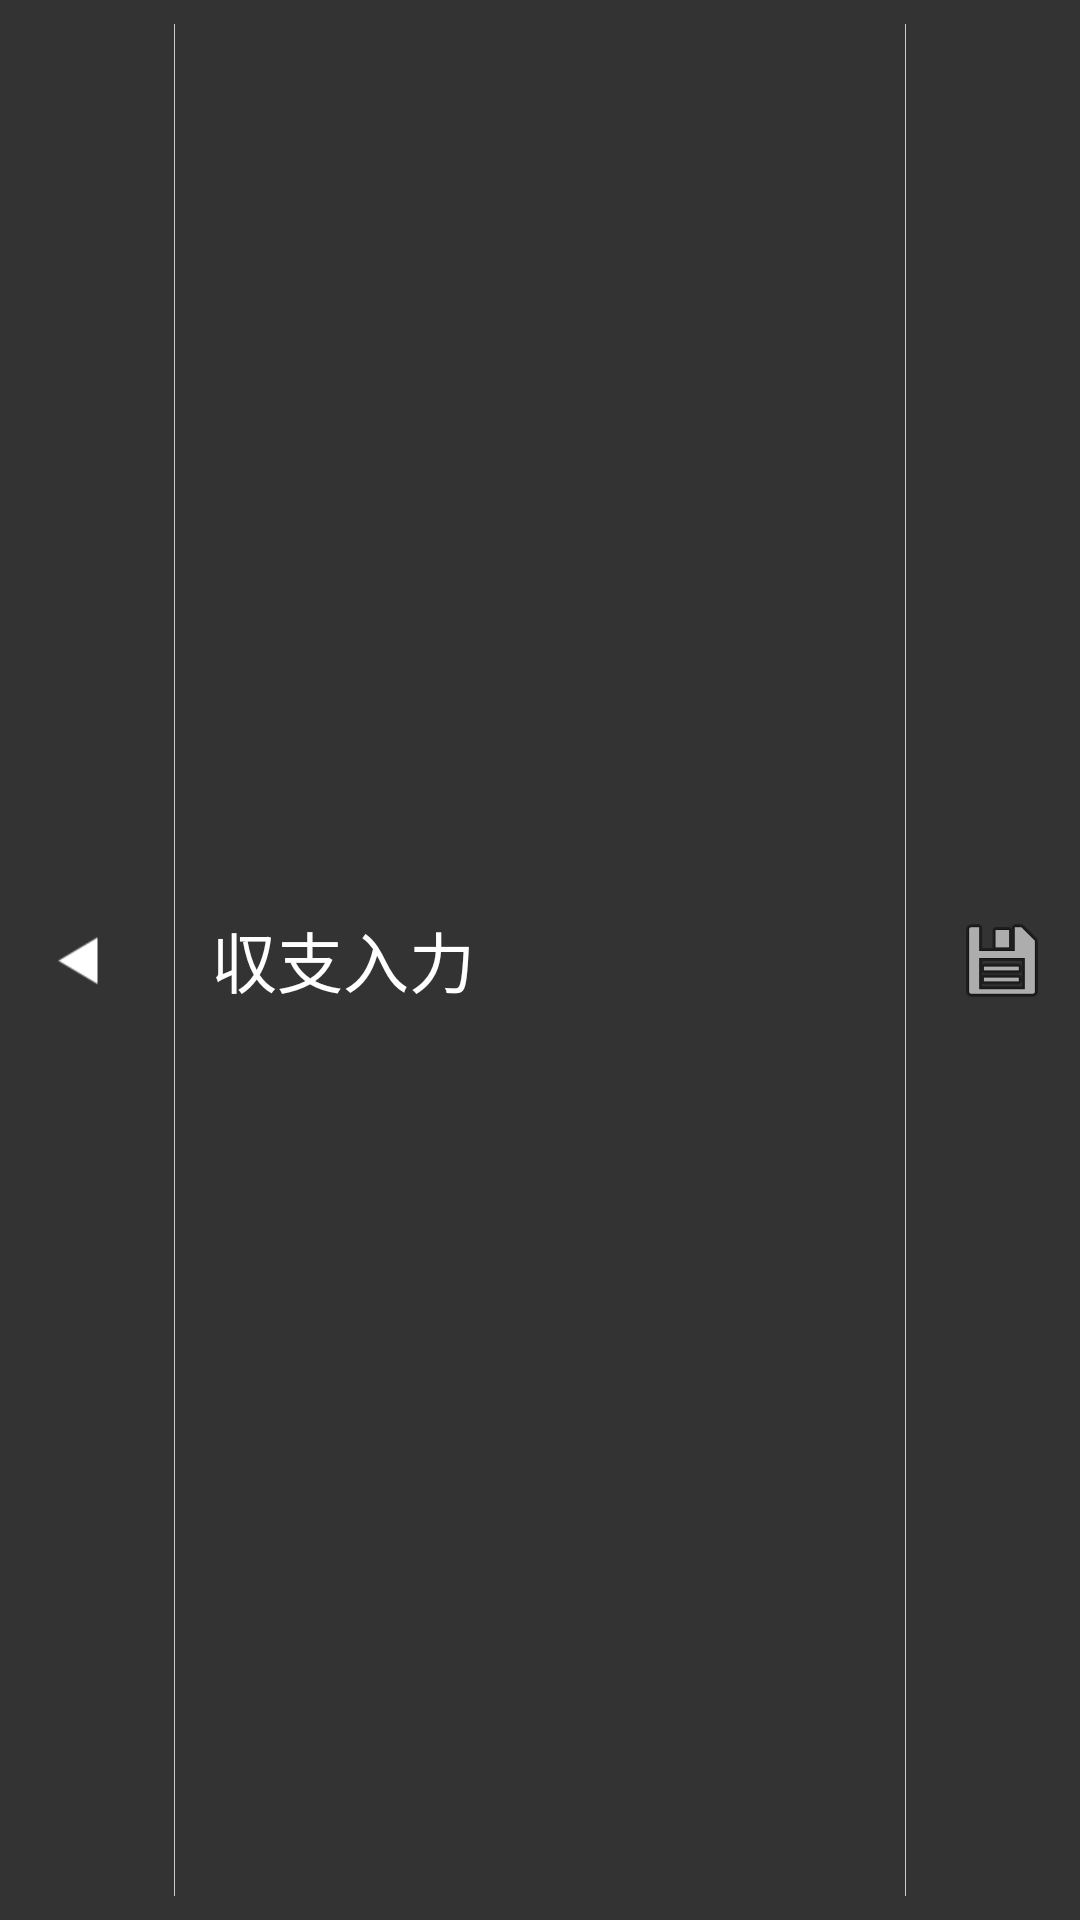

Icons on this 1080px x 1920px Android screen, each with its box as (x1, y1, x2, y2):
save: (968, 926, 1036, 995)
